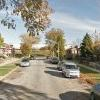Tree: (75, 30, 100, 63)
